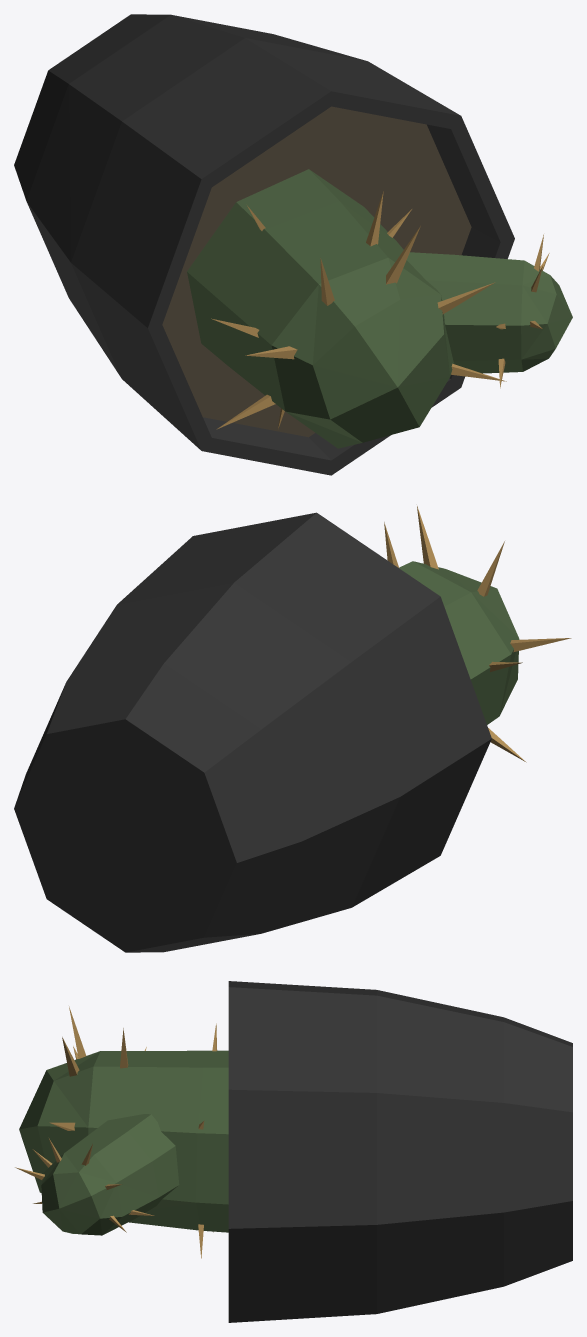
The model's file is houseplant-2.obj.
3 views of the same model, one above another, from view 1: azimuth 30°, elevation 25°; view 2: azimuth 150°, elevation 25°; view 3: azimuth 270°, elevation 25° (orthographic). The views are drawn at different scales.
Visible parts, largest first — view 1: houseplant-2; view 2: houseplant-2; view 3: houseplant-2.
Part boxes in pixels (x1=…): houseplant-2: x1=14, y1=14, x2=572, y2=475; houseplant-2: x1=14, y1=506, x2=571, y2=952; houseplant-2: x1=15, y1=981, x2=572, y2=1322.
Bounding box in the file's own units: 19.53 × 19.53 × 30.
